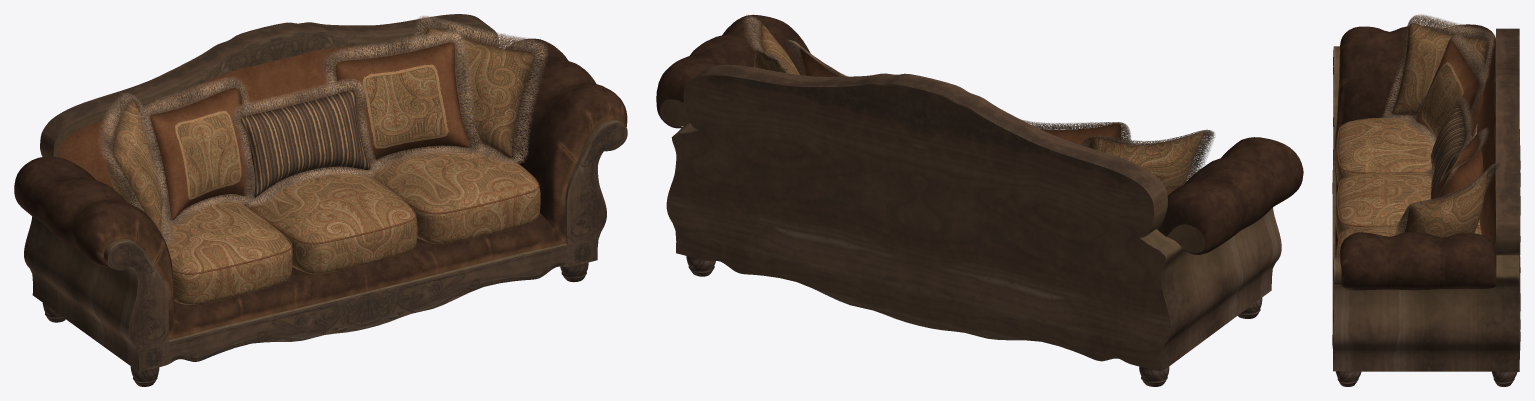
Rendered from SheenWoodLeatherSofa-Unity.glb.
The picture shows the model from 3 angles, left to right: view 1: azimuth 30°, elevation 25°; view 2: azimuth 150°, elevation 25°; view 3: azimuth 270°, elevation 25°; orthographic projection. The views are drawn at different scales.
Parts seen in each view (by area): view 1: Frame, Paisley, Fringe, Brown, Stripes, Frame_Fabric; view 2: Frame, Paisley, Fringe, Brown; view 3: Frame, Paisley, Fringe, Brown, Frame_Fabric, Stripes.
Part boxes in pixels (bbox=[...]): Frame: bbox=[14, 14, 627, 386]; Paisley: bbox=[107, 27, 540, 304]; Fringe: bbox=[98, 16, 547, 246]; Brown: bbox=[150, 42, 539, 274]; Stripes: bbox=[174, 64, 448, 199]; Frame_Fabric: bbox=[57, 34, 494, 189]; Frame: bbox=[656, 14, 1303, 386]; Paisley: bbox=[754, 23, 1204, 194]; Fringe: bbox=[743, 14, 1214, 182]; Brown: bbox=[800, 46, 1121, 147]; Frame: bbox=[1332, 24, 1520, 386]; Paisley: bbox=[1335, 23, 1487, 257]; Fringe: bbox=[1382, 14, 1499, 235]; Brown: bbox=[1336, 40, 1483, 257]; Frame_Fabric: bbox=[1477, 39, 1495, 245]; Stripes: bbox=[1422, 61, 1472, 198].
Bounding box in the file's own units: 2.73 × 1.12 × 0.9232.
6 materials, 6 textured.
